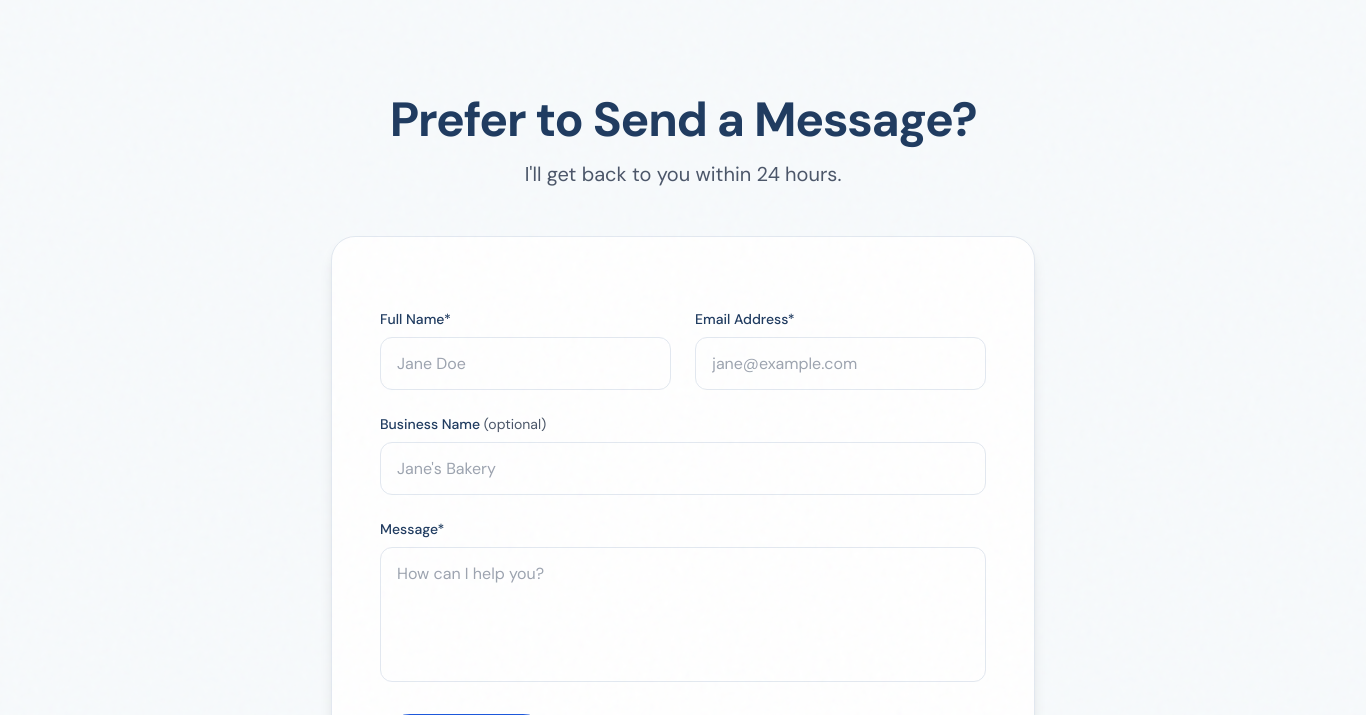
ContactForm Component › shows success message after successful submission
Fill out required fields to satisfy HTML validation before submit
Type "Test Name" into the field labelled "Full Name*" at (526, 364), box [380,337,671,390]
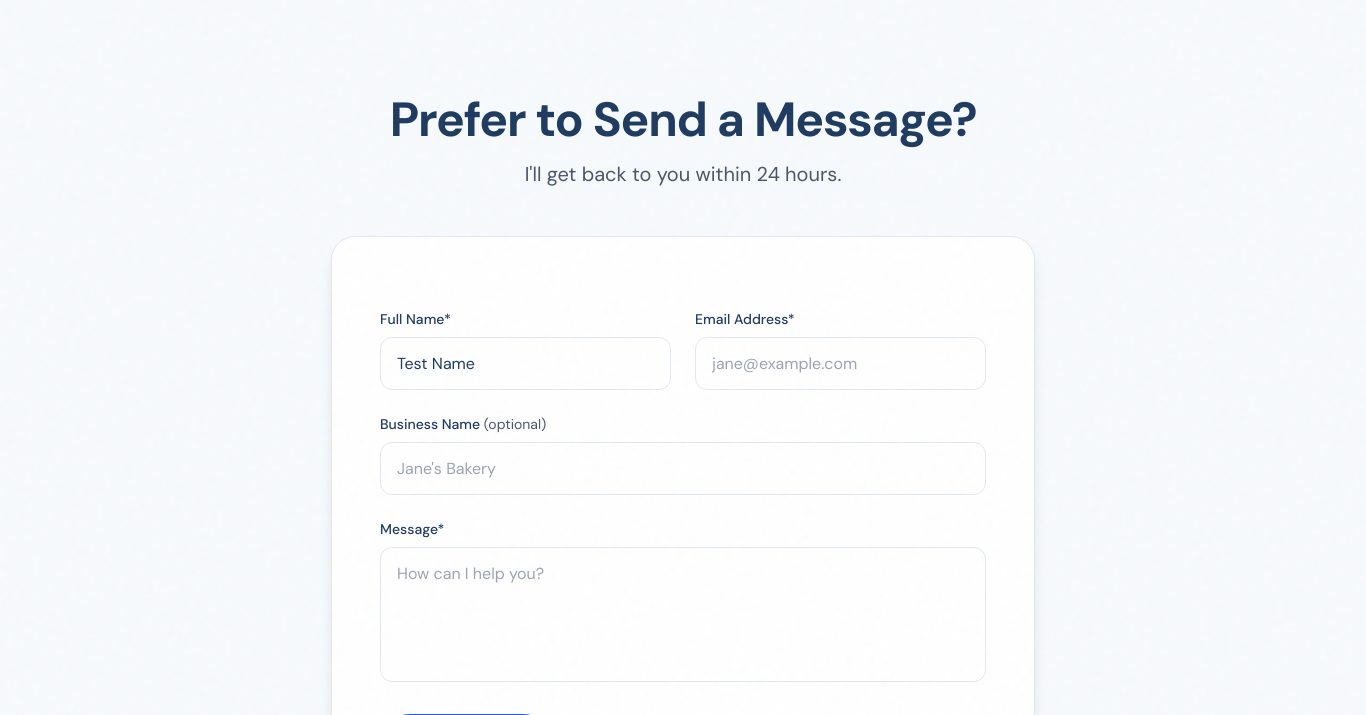
Type "test@example.com" into the field labelled "Email Address*" at (840, 364), box [695,337,986,390]
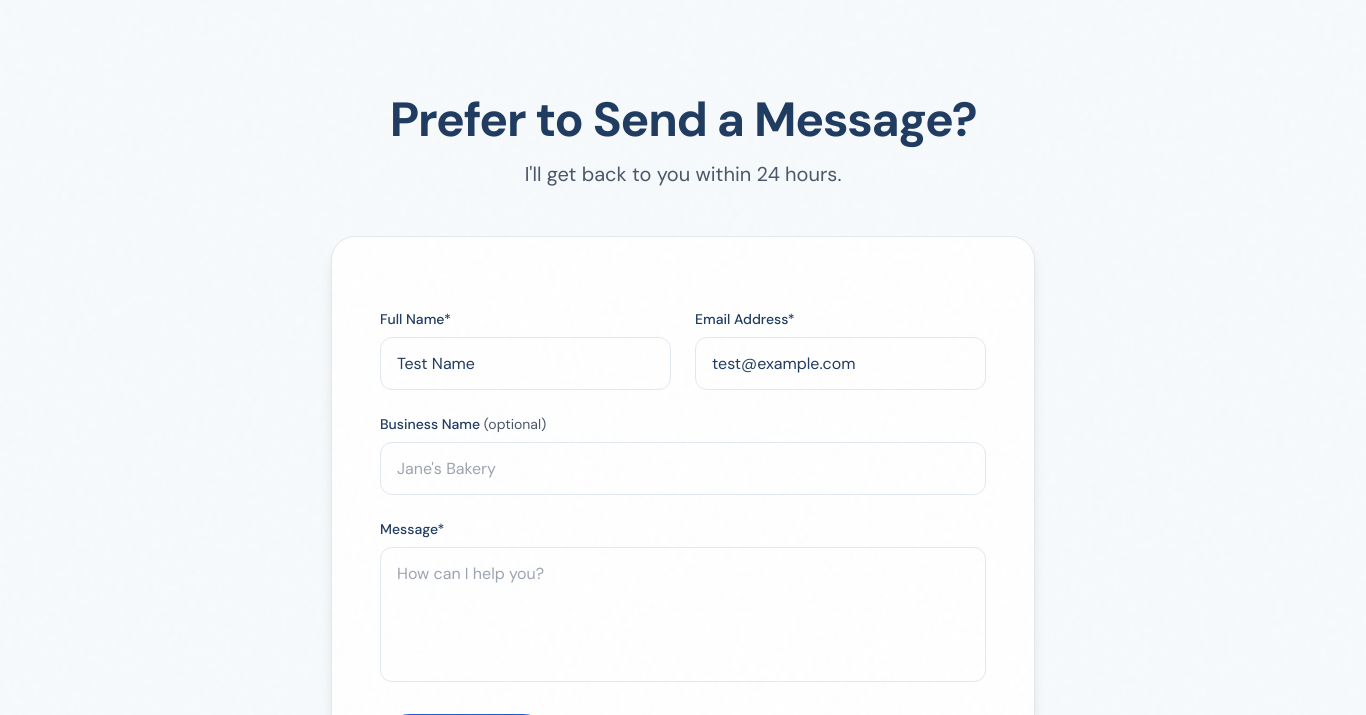
Type "Test message" into the text box labelled "Message*" at (683, 615), box [380,547,986,682]
(page scrolled)
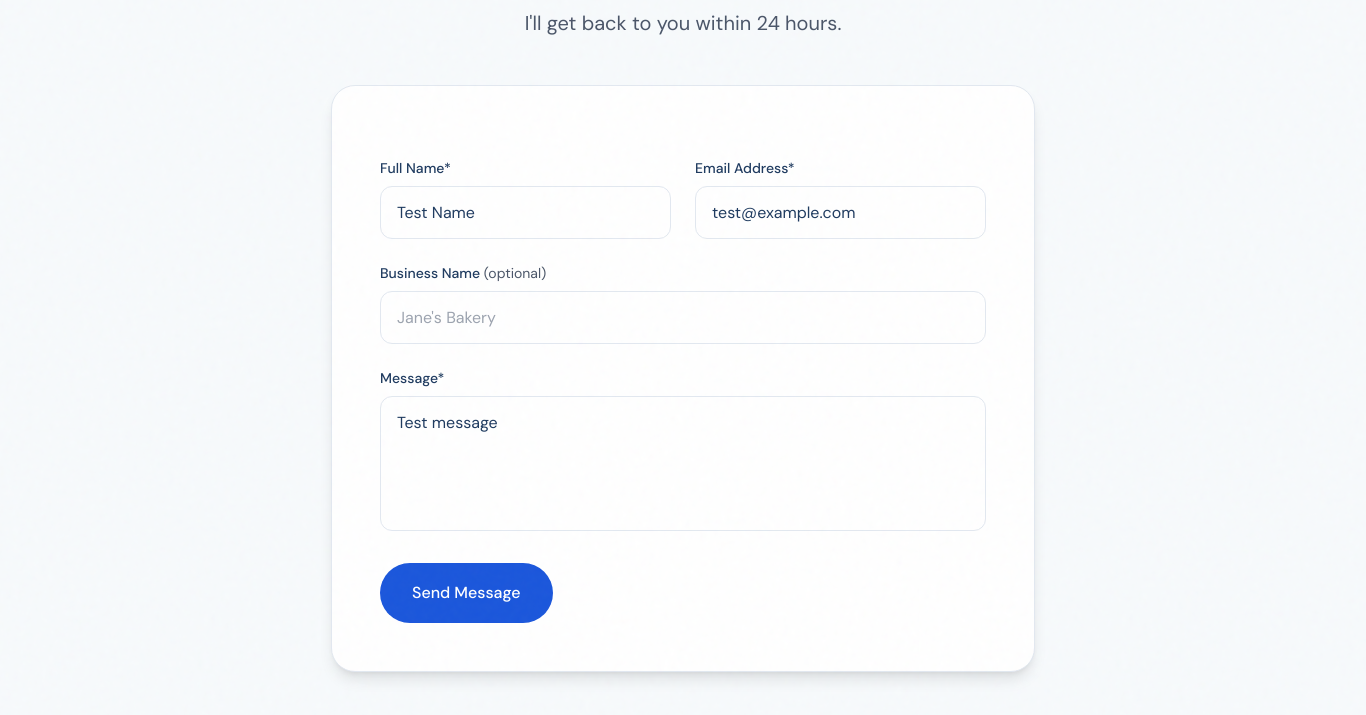
Submit form
Click the button "Send Message" at (466, 593), box [380,563,553,622]
(page scrolled)
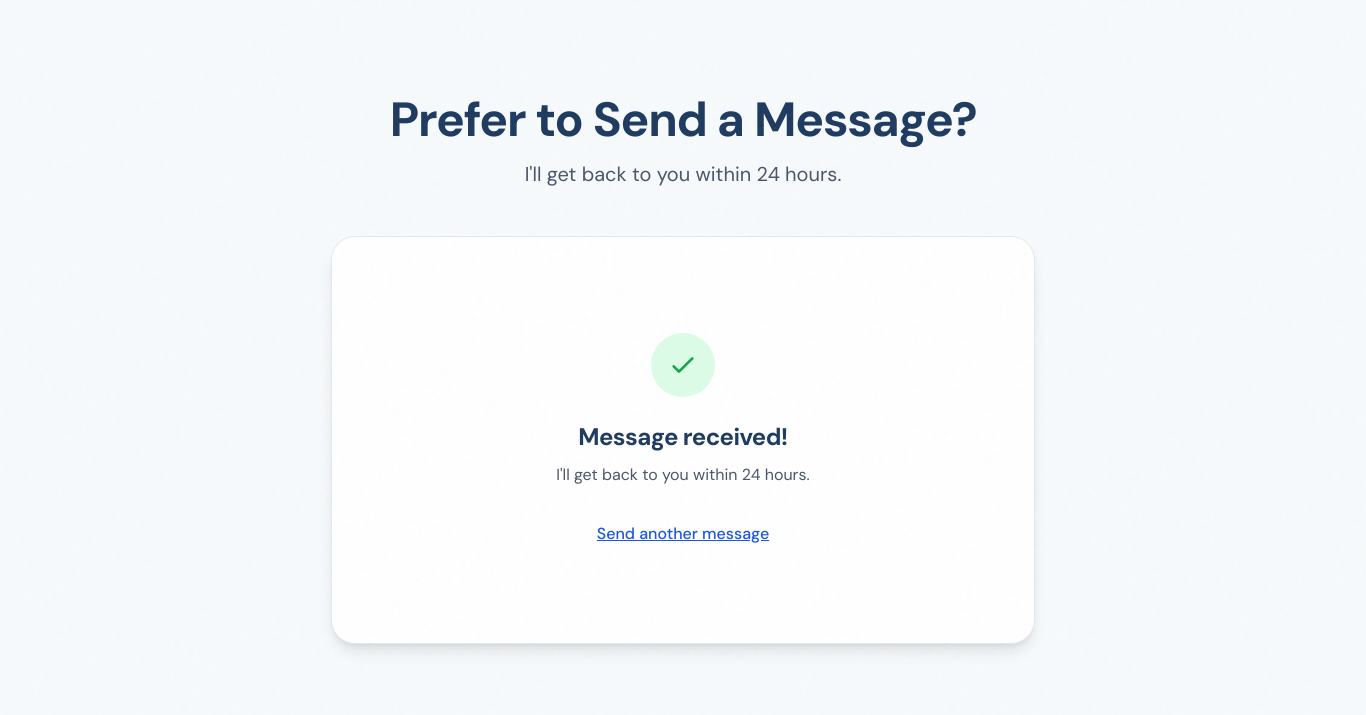
expect the element with test id "success-message" is shown: met, box [556,333,810,547]
expect the heading "Message received!" is shown: met, box [578,421,788,452]
